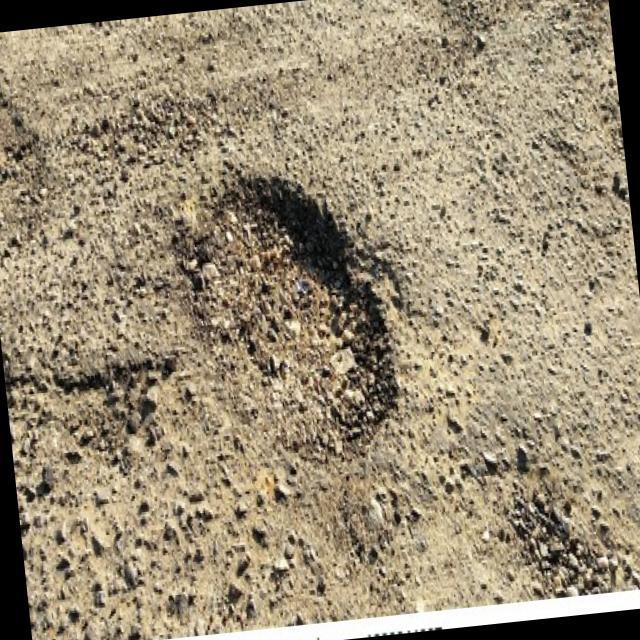Pothole: (167, 155, 409, 478), (43, 350, 181, 477)
